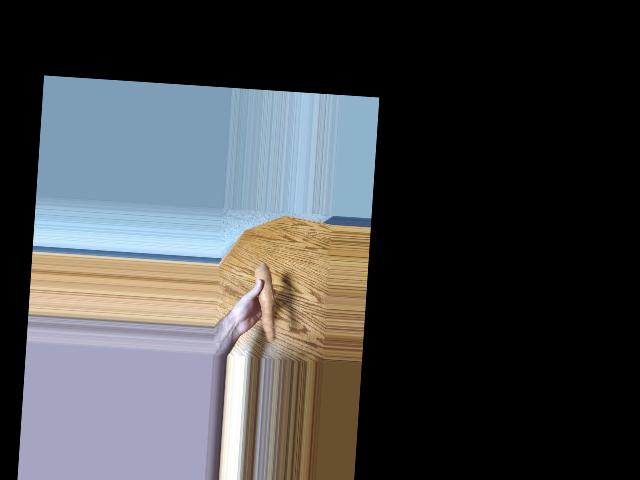sweet_potato: (256, 264, 276, 341)
